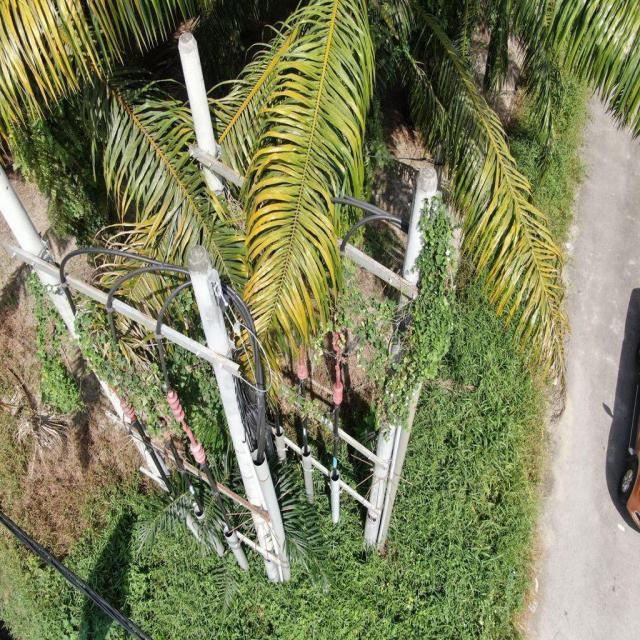critical vegetation: (48, 281, 198, 461), (366, 187, 463, 451)
